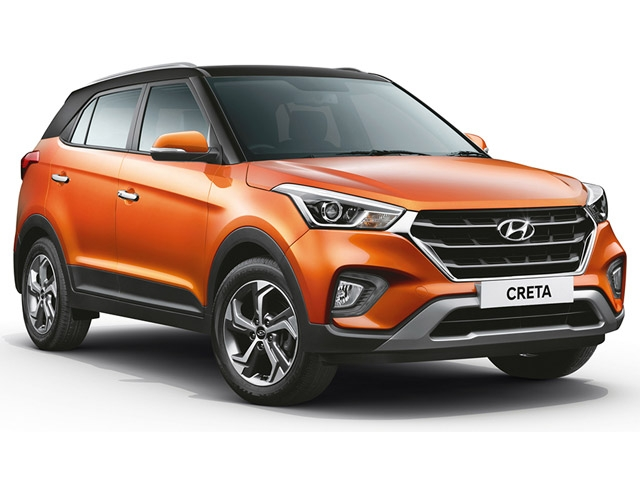Car: (10, 54, 634, 410)
